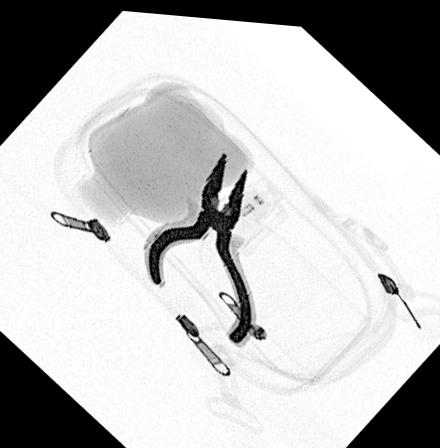Pliers: (143, 142, 257, 344)
